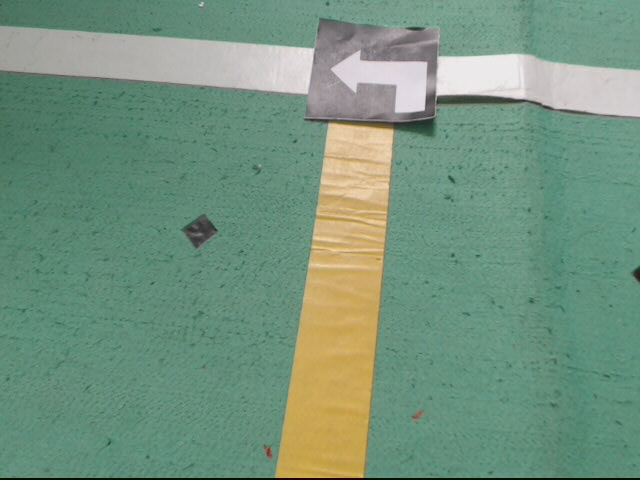left: (305, 17, 442, 125)
